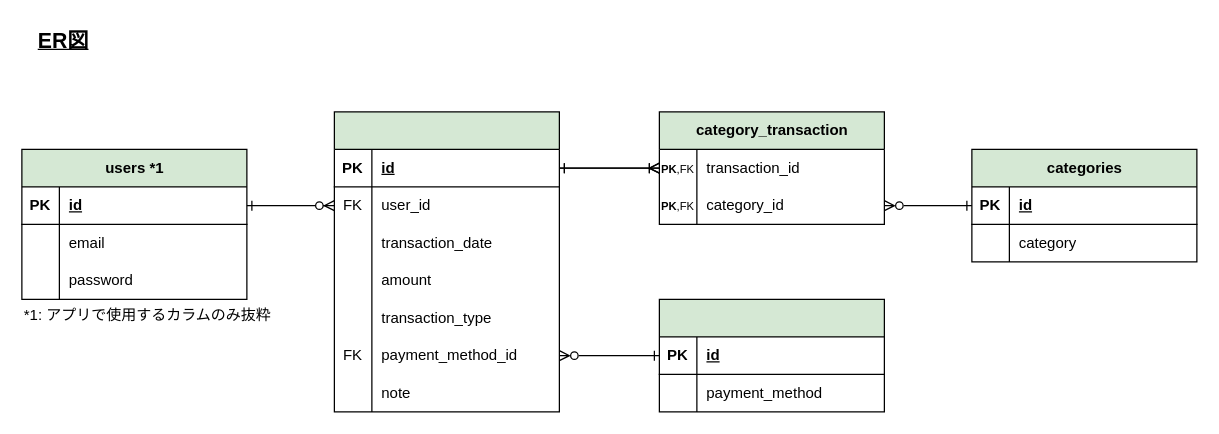
Image size: 1219x434. Some labels were removed from this diagram. Here are the shapes that lost their labels. From the top down, the box of each, then its label:
(333, 111, 559, 412): transactions
(658, 298, 884, 412): payment_methods
